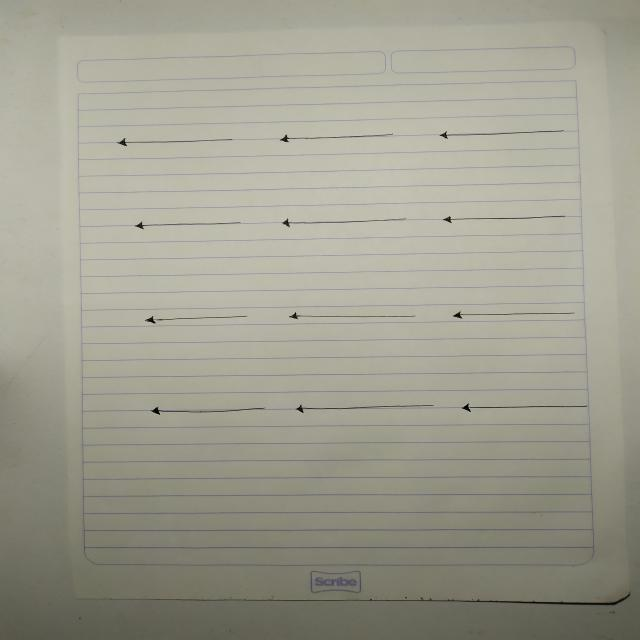arrow_line_left: (261, 127, 403, 153), (274, 305, 422, 328), (451, 398, 595, 421), (268, 213, 418, 235), (137, 401, 279, 423), (107, 132, 240, 155), (428, 123, 576, 142), (290, 401, 444, 419), (433, 212, 578, 230), (440, 306, 584, 324), (124, 217, 248, 237), (137, 309, 252, 328)
